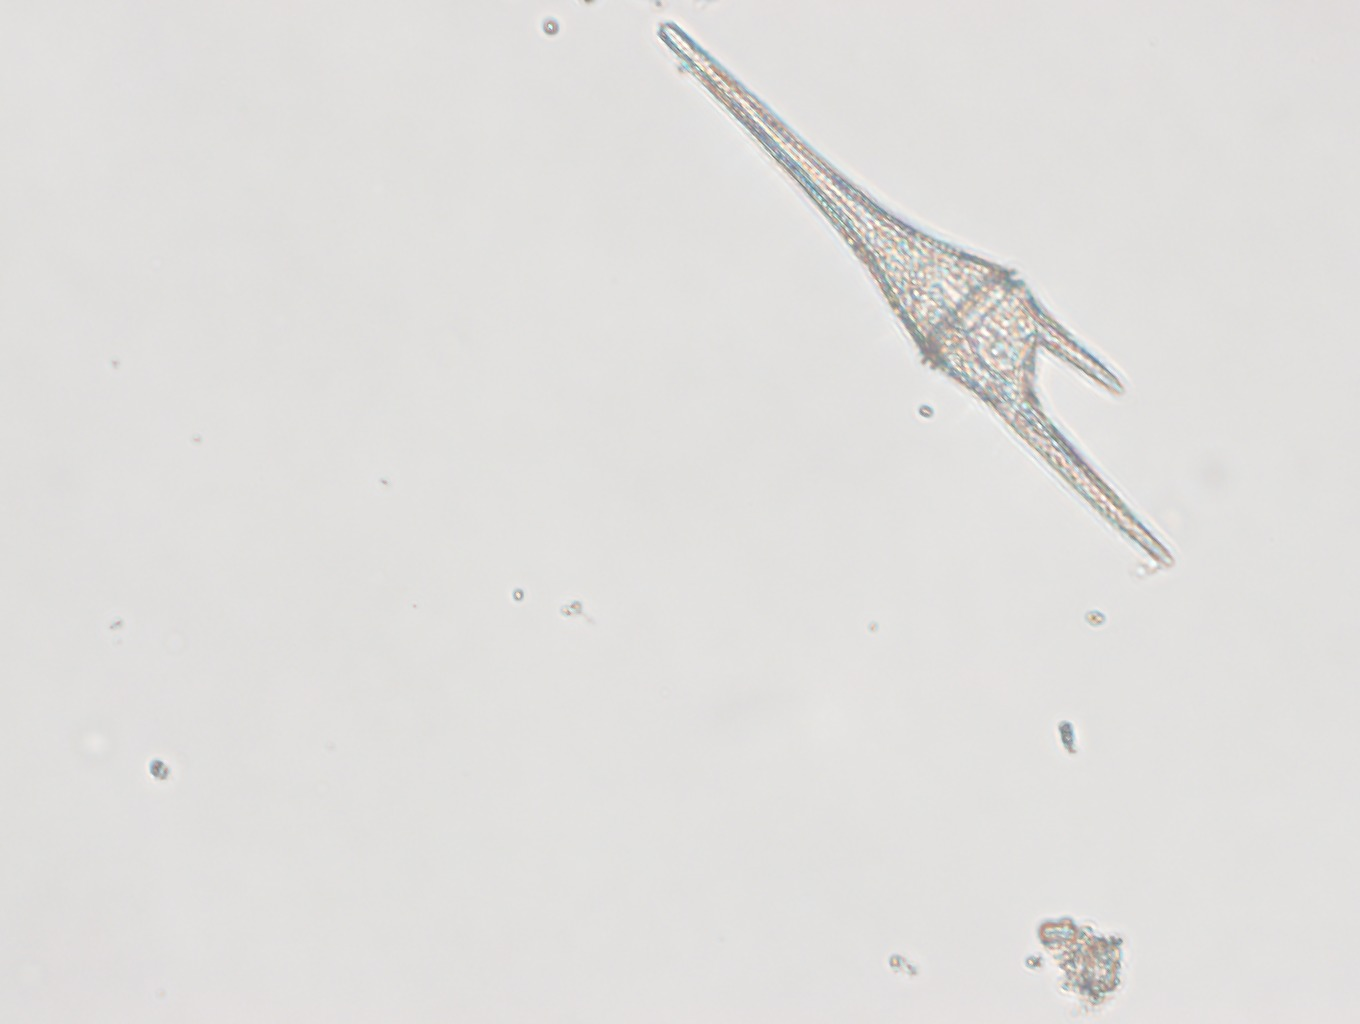ceratium furca: (656, 20, 1179, 572)
